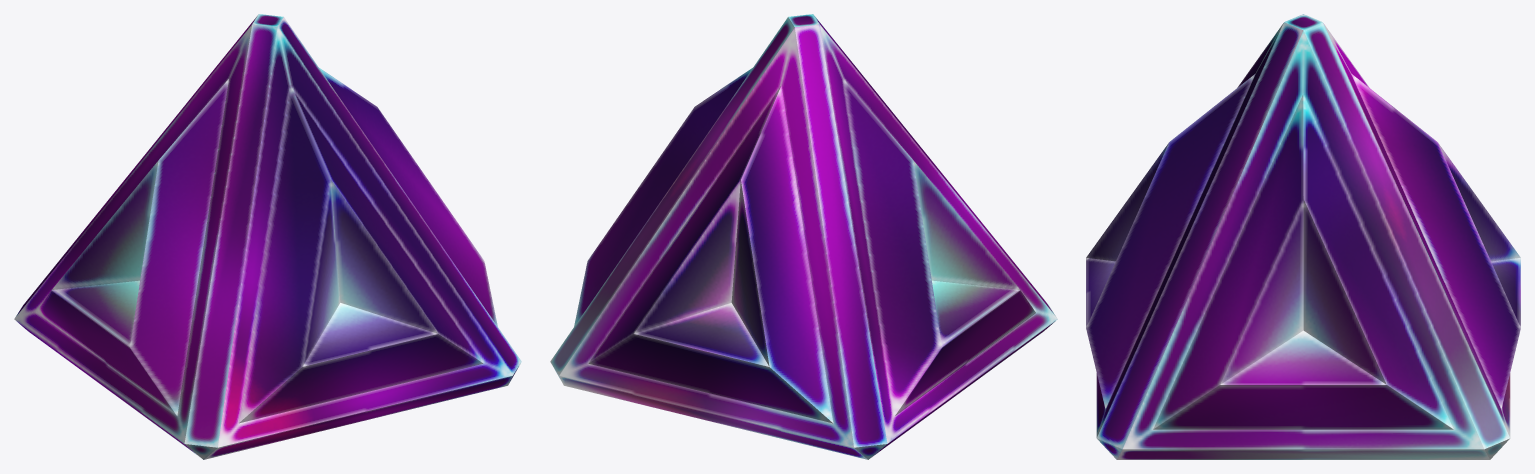
The model's file is Crystal04.FBX.
The picture shows the model from 3 angles, left to right: view 1: azimuth 30°, elevation 25°; view 2: azimuth 150°, elevation 25°; view 3: azimuth 270°, elevation 25°; orthographic projection. The views are drawn at different scales.
Visible parts, largest first — view 1: Crystal04; view 2: Crystal04; view 3: Crystal04.
Boxes of the visible parts, x1=… form: Crystal04: x1=14, y1=14, x2=521, y2=459; Crystal04: x1=550, y1=14, x2=1057, y2=459; Crystal04: x1=1086, y1=14, x2=1520, y2=459.
Bounding box in the file's own units: 24.51 × 22.32 × 24.51.
